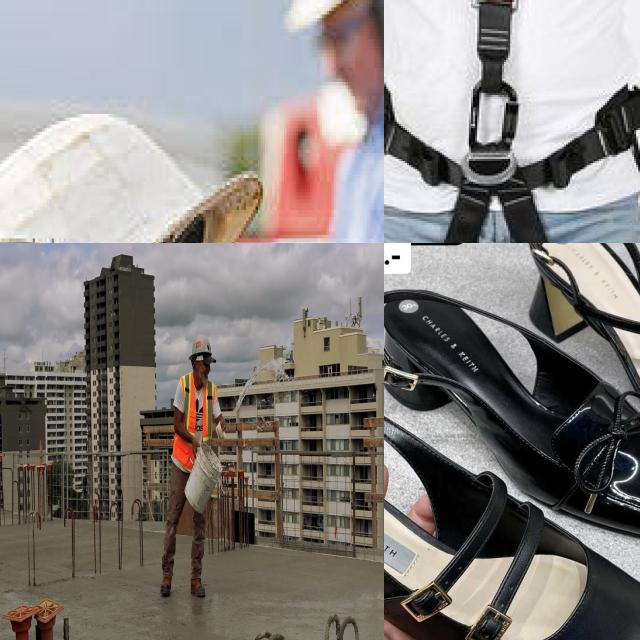Harness: (384, 0, 638, 243)
Sandals: (384, 261, 640, 547), (384, 358, 640, 640), (490, 243, 640, 483)
boots: (191, 569, 207, 604), (163, 573, 173, 598)
glasses: (303, 0, 367, 53)
head_helmet: (0, 64, 262, 243), (274, 0, 384, 39), (189, 336, 215, 364)
person: (161, 334, 224, 604)
vest: (172, 372, 216, 474)
